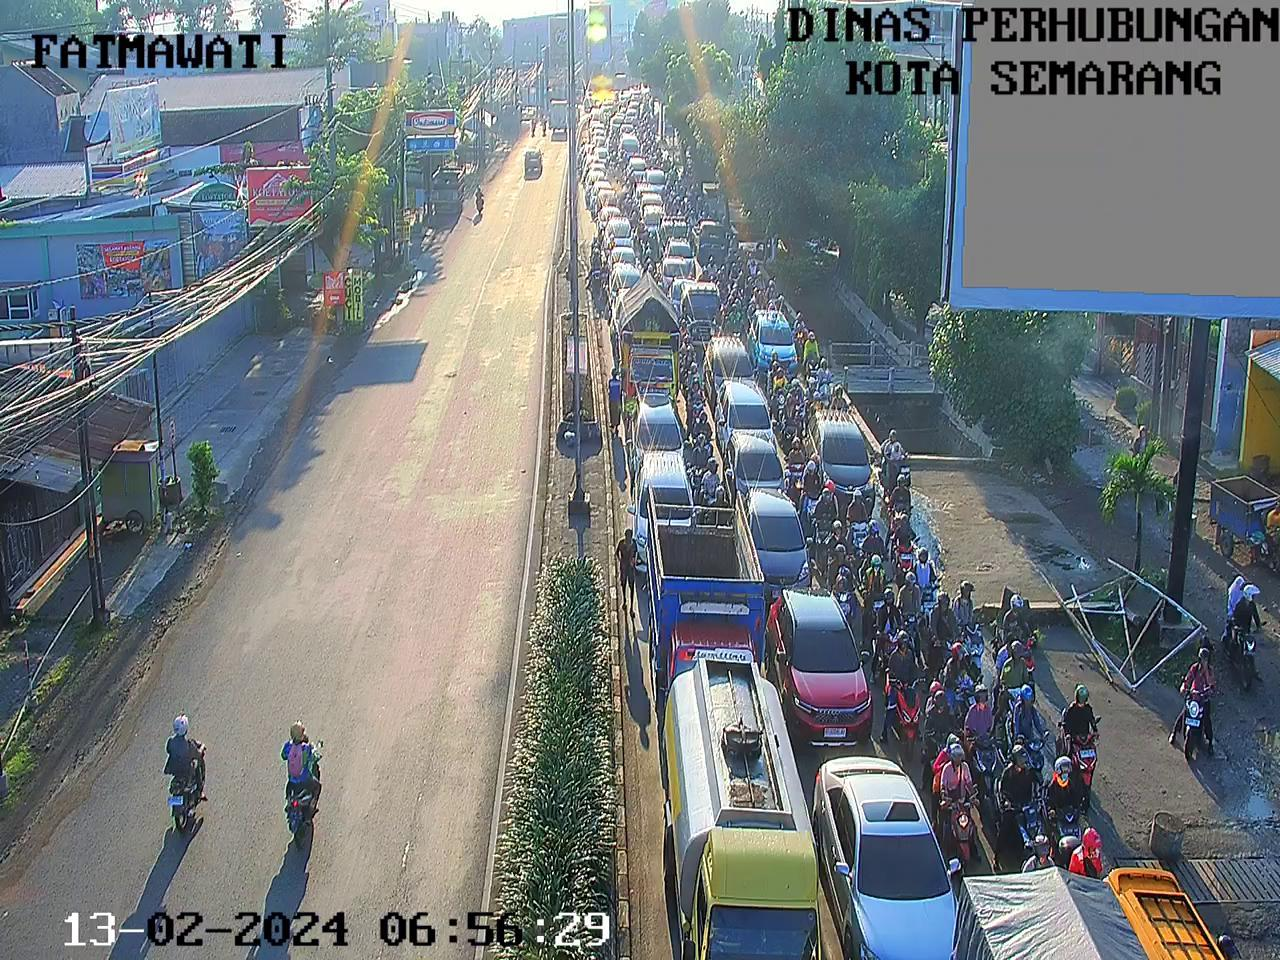car: (812, 740, 951, 960), (773, 581, 873, 755), (1110, 861, 1227, 960), (803, 398, 877, 508), (627, 441, 696, 554), (748, 484, 815, 588), (727, 425, 793, 498), (719, 373, 776, 441), (629, 398, 682, 461), (754, 305, 797, 369), (708, 329, 753, 386), (693, 218, 733, 267), (685, 276, 723, 327), (635, 181, 667, 229), (655, 199, 688, 238), (608, 254, 638, 296), (667, 243, 696, 283), (590, 178, 614, 212), (606, 213, 634, 239), (648, 167, 674, 194), (610, 243, 636, 268), (585, 164, 607, 189), (618, 136, 643, 158), (623, 155, 648, 174), (612, 234, 634, 254), (589, 105, 607, 126), (620, 119, 637, 141), (593, 147, 612, 166), (610, 109, 627, 129), (592, 128, 608, 148), (629, 87, 644, 105), (625, 106, 639, 124), (590, 122, 607, 134), (627, 99, 641, 113)
motorcycle: (931, 729, 980, 864), (995, 740, 1044, 863), (1054, 680, 1099, 812), (962, 680, 1006, 798), (884, 628, 925, 746), (918, 676, 963, 779), (1048, 748, 1088, 850), (952, 578, 989, 688), (1007, 682, 1048, 774), (924, 581, 964, 673), (994, 629, 1032, 717), (1005, 590, 1032, 697), (874, 577, 904, 671), (827, 543, 860, 628), (915, 542, 951, 619), (946, 637, 979, 716), (1059, 821, 1106, 876), (895, 566, 924, 653), (878, 418, 910, 494), (1014, 826, 1059, 876), (845, 487, 881, 548), (801, 453, 828, 532), (867, 552, 891, 634), (861, 518, 889, 586), (892, 470, 915, 552), (894, 509, 920, 576), (816, 482, 842, 549), (782, 433, 806, 498), (685, 374, 709, 436), (688, 428, 710, 492), (770, 357, 790, 425), (800, 329, 825, 382), (831, 516, 857, 565), (702, 459, 725, 505), (683, 343, 704, 392), (707, 482, 734, 518), (789, 376, 807, 428), (692, 410, 716, 448), (816, 354, 835, 401), (673, 313, 694, 350), (730, 302, 748, 343), (587, 244, 602, 292), (790, 323, 809, 360), (596, 254, 611, 299), (833, 382, 852, 415), (607, 216, 632, 239), (766, 348, 780, 387), (776, 291, 793, 323), (716, 269, 731, 305), (623, 190, 640, 221), (811, 387, 828, 417), (754, 270, 767, 309), (730, 247, 741, 292), (746, 248, 761, 281), (640, 256, 659, 282), (688, 357, 704, 387), (734, 266, 747, 302), (643, 122, 661, 147), (720, 309, 734, 339), (574, 150, 587, 181), (671, 162, 684, 193), (766, 277, 779, 307), (698, 262, 712, 287), (642, 139, 656, 164), (682, 191, 694, 220), (686, 207, 697, 238), (796, 308, 809, 333), (636, 218, 648, 245), (606, 148, 615, 183), (613, 160, 625, 186), (655, 145, 666, 171), (672, 195, 683, 220), (592, 226, 600, 255), (695, 189, 704, 214), (662, 181, 671, 204), (766, 297, 777, 315), (609, 133, 620, 151), (700, 209, 711, 222), (632, 122, 640, 137)
truck: (654, 652, 823, 960), (645, 500, 768, 679), (957, 862, 1142, 960), (604, 274, 682, 395), (593, 183, 621, 231)
